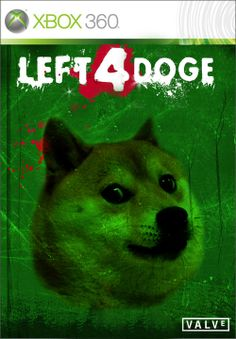doge: (18, 107, 215, 320)
